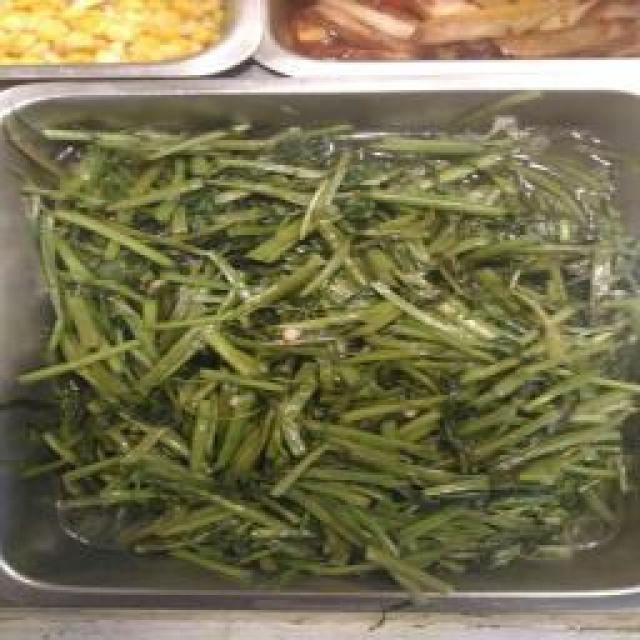Wet Waste: (43, 123, 615, 585)
